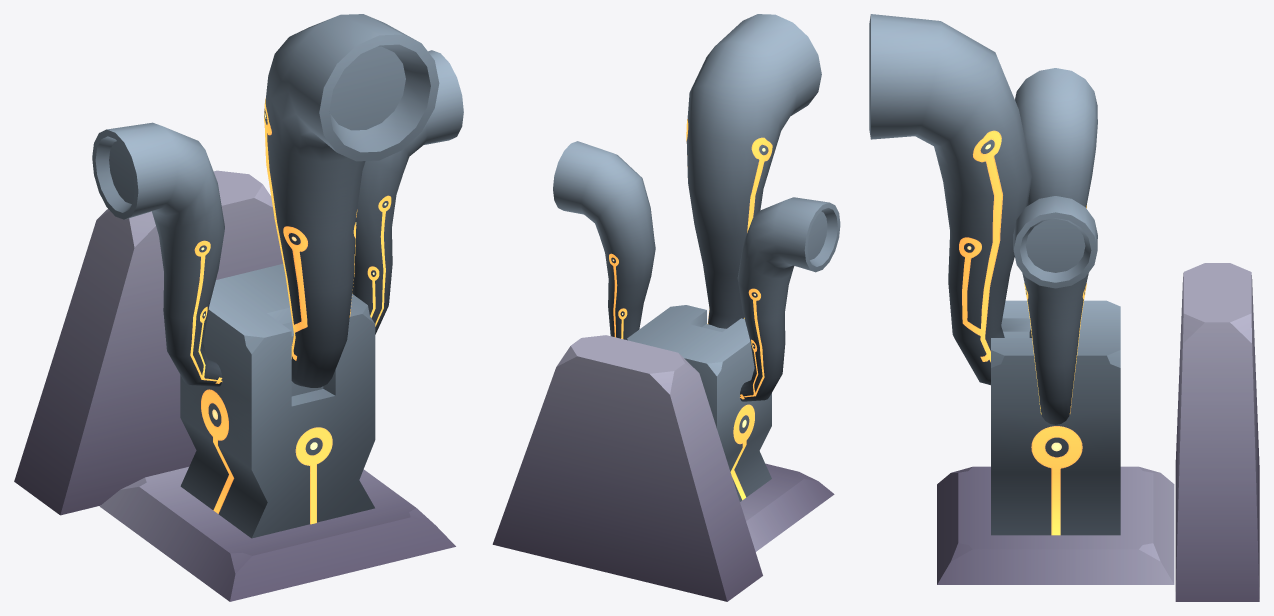
File: SecondPuzzle.fbx
3 views of the same model, side by side, from view 1: azimuth 30°, elevation 25°; view 2: azimuth 150°, elevation 25°; view 3: azimuth 270°, elevation 25° (orthographic). The views are drawn at different scales.
Visible parts, largest first — view 1: Box, Box_02, Horn, SmallHorn_01, SmallHorn_02; view 2: Box_02, Horn, Box, SmallHorn_01, SmallHorn_02; view 3: Box, Horn, Box_02, SmallHorn_02, SmallHorn_01.
Boxes of the visible parts, x1,y1,x2,y2 form: Box: (99,264,455,601); Box_02: (14,170,282,515); Horn: (264,14,439,387); SmallHorn_01: (92,122,224,386); SmallHorn_02: (352,50,463,334); Box_02: (492,335,762,601); Horn: (686,14,821,328); Box: (626,305,834,551); SmallHorn_01: (737,197,840,401); SmallHorn_02: (553,141,655,339); Box: (937,300,1174,584); Horn: (869,14,1032,385); Box_02: (1175,263,1259,601); SmallHorn_02: (1013,196,1097,424); SmallHorn_01: (1015,68,1097,208).
Bounding box in the file's own units: 157 × 261 × 180.
